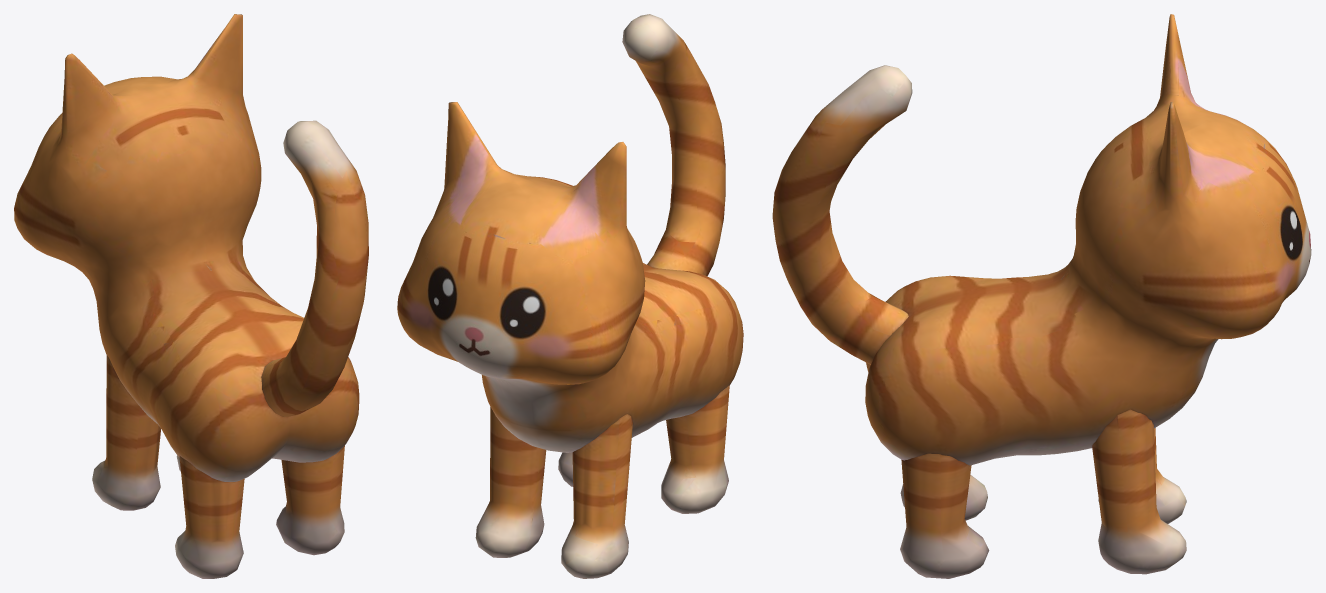
File: pet_cat.glb
3 renders of one model, left to right at view 1: azimuth 30°, elevation 25°; view 2: azimuth 150°, elevation 25°; view 3: azimuth 270°, elevation 25°, orthographic. The views are drawn at different scales.
Parts seen in each view (by area): view 1: Body, Tail, LegFL, LegBL, LegBR; view 2: Body, Tail, LegFL, LegFR, LegBL; view 3: Body, Tail, LegFR, LegBR, LegFL, LegBL.
Part boxes in pixels (x1,y1,x2,y2): Body: [14, 14, 359, 481]; Tail: [261, 120, 368, 416]; LegFL: [92, 355, 160, 510]; LegBL: [175, 456, 244, 578]; LegBR: [276, 445, 344, 555]; Body: [397, 102, 743, 452]; Tail: [622, 14, 725, 276]; LegFL: [561, 414, 632, 578]; LegFR: [475, 406, 546, 557]; LegBL: [661, 385, 729, 513]; Body: [865, 14, 1311, 465]; Tail: [772, 65, 912, 364]; LegFR: [1092, 409, 1186, 574]; LegBR: [900, 453, 989, 578]; LegFL: [1098, 428, 1186, 523]; LegBL: [900, 474, 987, 520].
Bounding box in the file's own units: 0.2896 × 0.5852 × 0.5796.
Materials: 1 (1 with a texture image).
